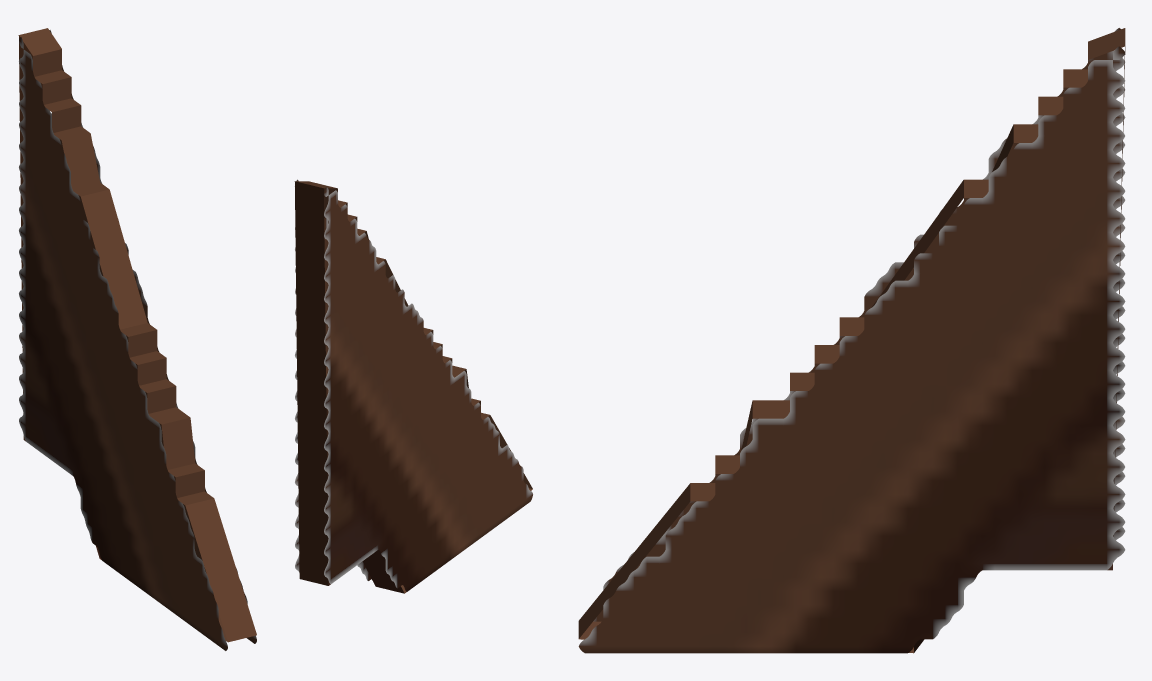
The model's file is pz_native_fixtures_railings_01_83_frame.obj.
3 views of the same model, side by side, from view 1: azimuth 30°, elevation 25°; view 2: azimuth 150°, elevation 25°; view 3: azimuth 270°, elevation 25° (orthographic). The views are drawn at different scales.
Visible parts, largest first — view 1: pz_native_fixtures_railings_01_83_frame; view 2: pz_native_fixtures_railings_01_83_frame; view 3: pz_native_fixtures_railings_01_83_frame.
Boxes of the visible parts, <box> form: pz_native_fixtures_railings_01_83_frame: <box>18,28,256,650</box>; pz_native_fixtures_railings_01_83_frame: <box>294,179,532,593</box>; pz_native_fixtures_railings_01_83_frame: <box>578,28,1125,653</box>.
Bounding box in the file's own units: 0.045 × 0.7188 × 0.5869.
Materials: 1 (1 with a texture image).
